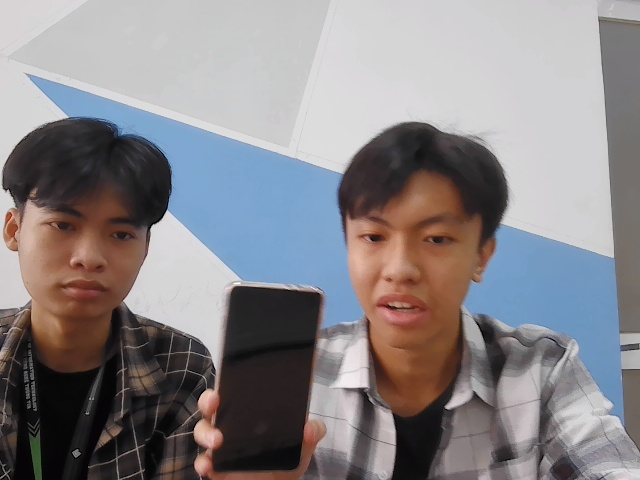human: (333, 115, 501, 335), (5, 113, 170, 322)
phone: (212, 283, 326, 476)
